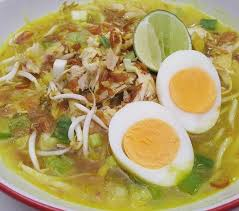soto: (3, 3, 238, 207)
